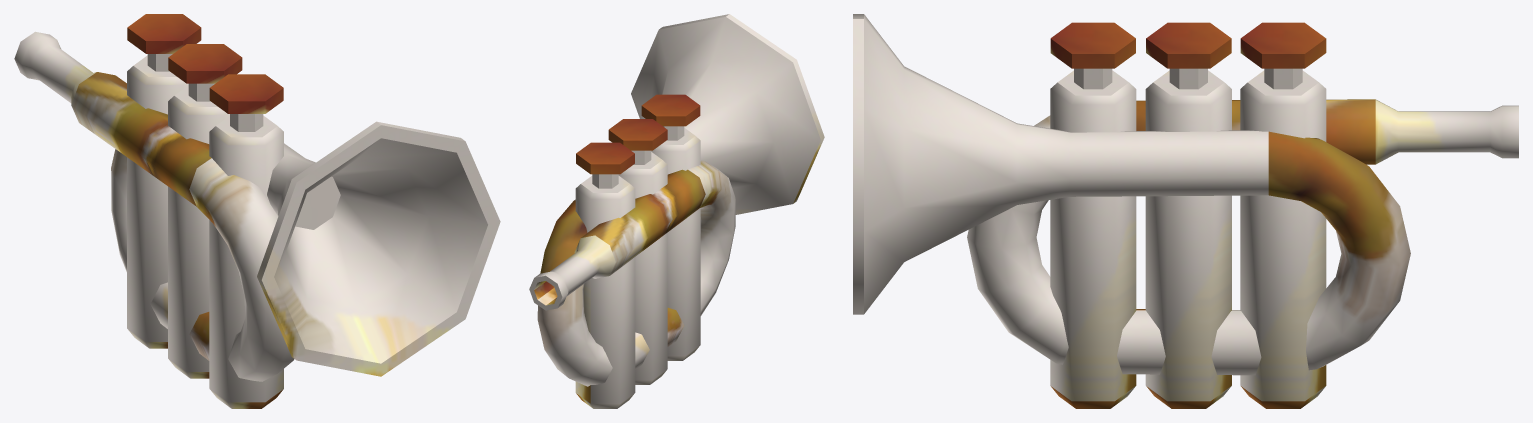
The model's file is trumpet.fbx.
3 renders of one model, left to right at view 1: azimuth 30°, elevation 25°; view 2: azimuth 150°, elevation 25°; view 3: azimuth 270°, elevation 25°, orthographic. The views are drawn at different scales.
Parts seen in each view (by area): view 1: trumpet; view 2: trumpet; view 3: trumpet.
Boxes of the visible parts, x1=… form: trumpet: x1=14, y1=14, x2=500, y2=408; trumpet: x1=529, y1=14, x2=824, y2=408; trumpet: x1=853, y1=14, x2=1518, y2=408.
Bounding box in the file's own units: 0.3698 × 0.5054 × 0.7734.
